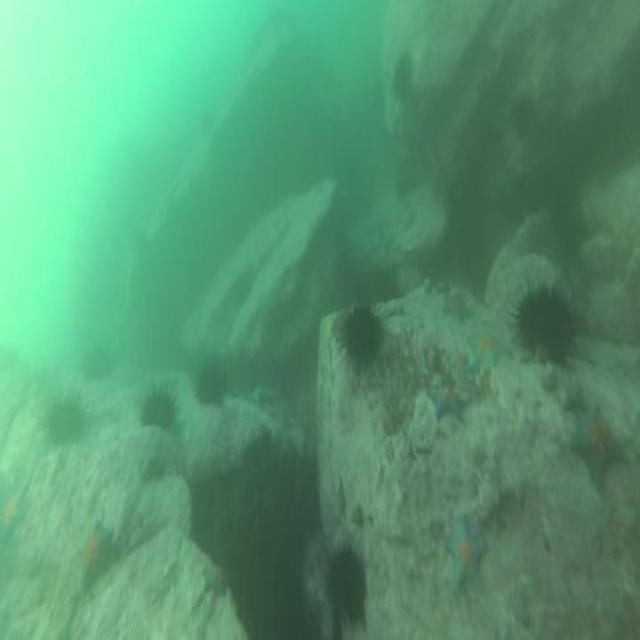echinus: (510, 281, 580, 367), (331, 296, 386, 378), (320, 538, 369, 630), (42, 389, 87, 449), (137, 382, 180, 434), (194, 357, 230, 414), (387, 49, 416, 107), (507, 93, 537, 139), (392, 152, 420, 199), (83, 344, 112, 384)
starfish: (566, 402, 630, 494), (441, 512, 492, 600), (75, 516, 116, 592), (465, 322, 510, 378), (427, 378, 472, 428), (0, 482, 27, 547), (437, 286, 478, 326), (199, 556, 233, 599)
